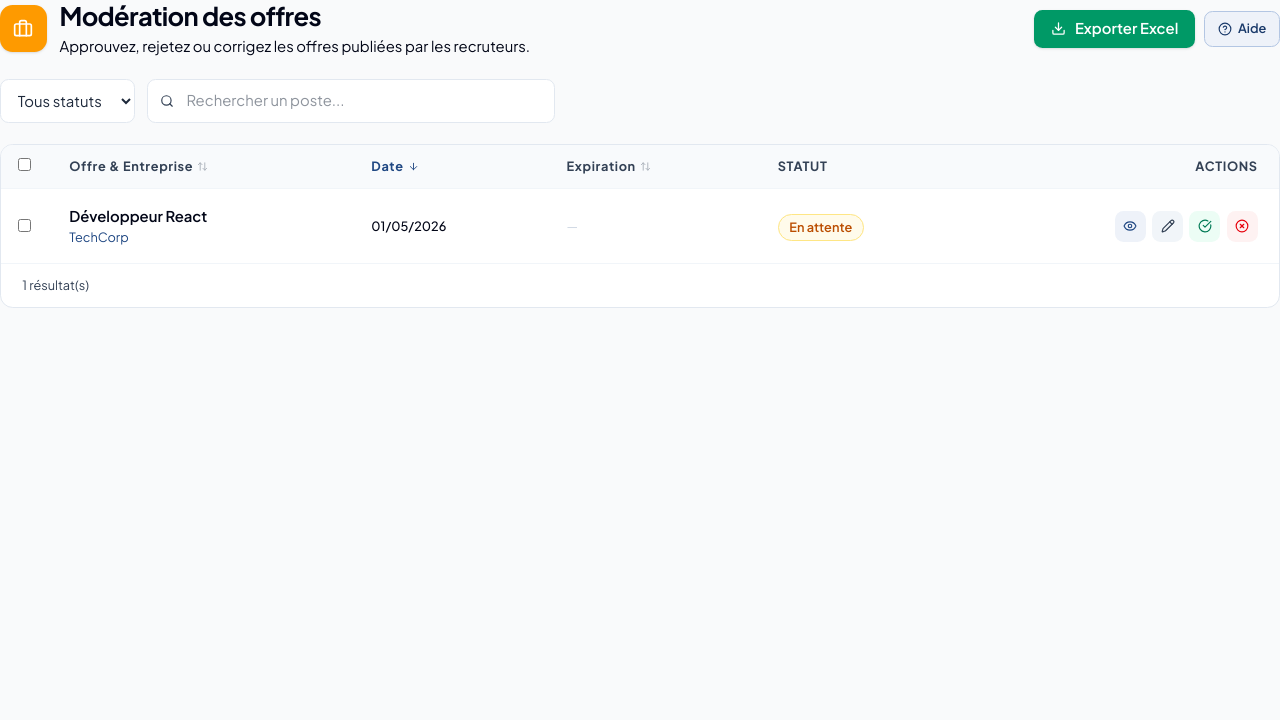
Test: 💼 UI & Logique - Composant <AdminOffres /> › 🎓 Fiche d'une offre : formation requise › 🟢 Les compétences sont aussi écrites en phrases dans « Ce que le candidat lit »
This screenshot has width=1280, height=720.
Click the button titled "Voir".
click(1130, 226)  # box [1115,210,1146,242]
(page scrolled)
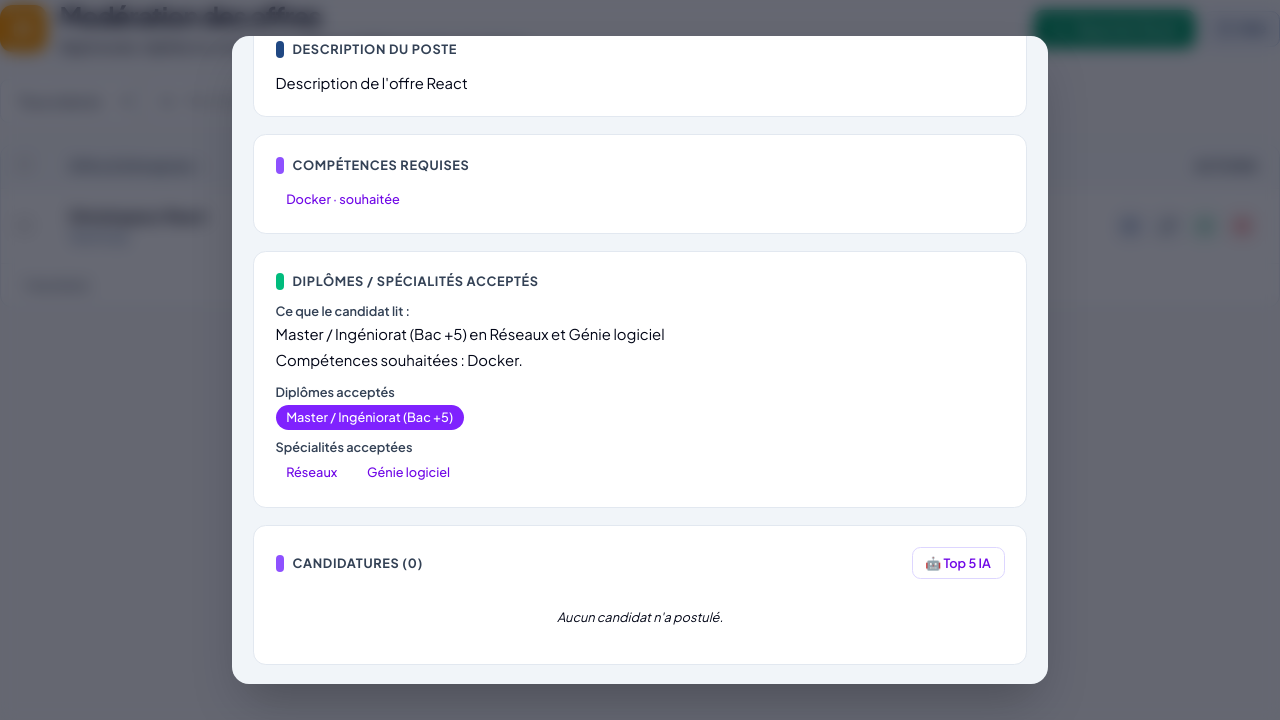
Check: the text "Compétences souhaitées : Docker." is shown, box [276,351,523,369]
